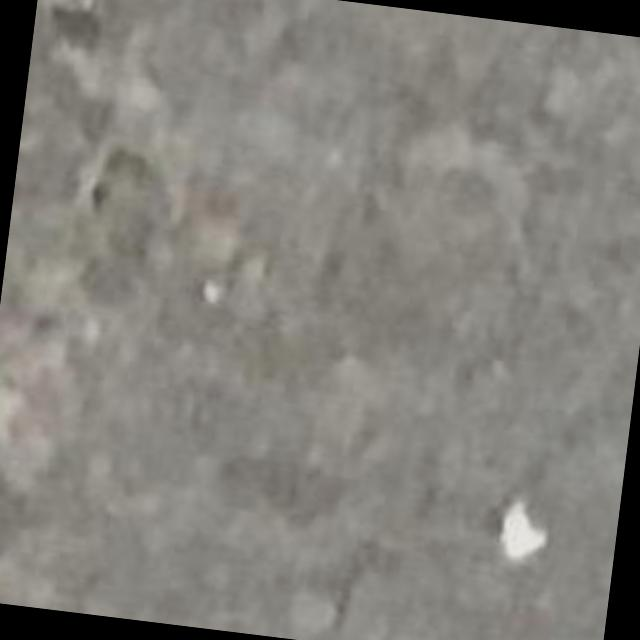peeling plaster: (500, 503, 548, 562)
